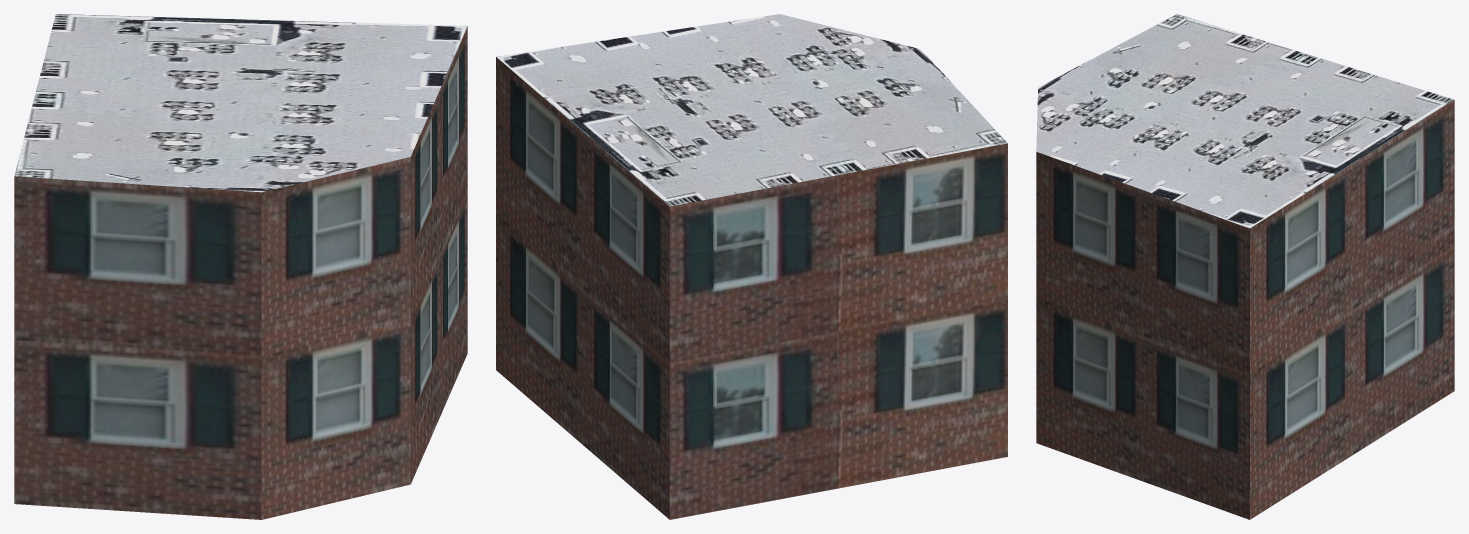
Rendered from ResTex__3338.fbx.
3 views of the same model, side by side, from view 1: azimuth 30°, elevation 25°; view 2: azimuth 150°, elevation 25°; view 3: azimuth 270°, elevation 25° (orthographic). The views are drawn at different scales.
Parts seen in each view (by area): view 1: CityEngineMaterial_14_m, CityEngineMaterial_8_m; view 2: CityEngineMaterial_14_m, CityEngineMaterial_8_m; view 3: CityEngineMaterial_14_m, CityEngineMaterial_8_m.
Boxes of the visible parts, x1,y1,x2,y2 form: CityEngineMaterial_14_m: [14, 26, 467, 519]; CityEngineMaterial_8_m: [14, 14, 467, 192]; CityEngineMaterial_14_m: [496, 57, 1007, 519]; CityEngineMaterial_8_m: [496, 14, 1007, 206]; CityEngineMaterial_14_m: [1036, 100, 1454, 519]; CityEngineMaterial_8_m: [1036, 14, 1453, 228].
Bounding box in the file's own units: 9.47 × 6 × 7.8.
2 materials, 2 textured.
